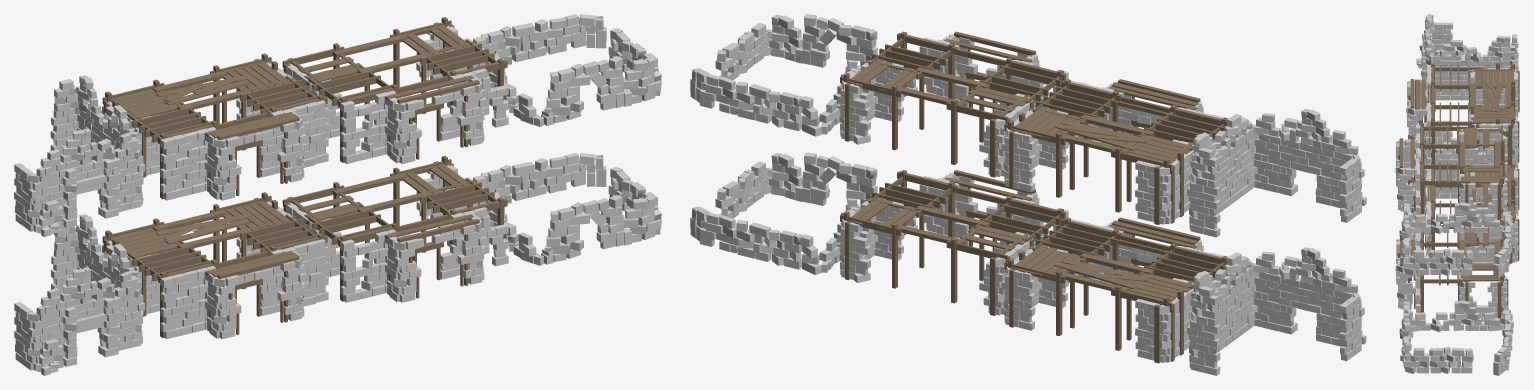
The model's file is Ruined_Structures_A.fbx.
3 views of the same model, side by side, from view 1: azimuth 30°, elevation 25°; view 2: azimuth 150°, elevation 25°; view 3: azimuth 270°, elevation 25° (orthographic). The views are drawn at different scales.
Visible parts, largest first — view 1: Ruined_Structure_1A3, Ruined_Structure_1A3.001, Ruined_Structure_1A4, Ruined_Structure_1A4.001, Ruined_Structure_1A1, Ruined_Structure_1A1.001, Ruined_Structure_1A2, Ruined_Structure_1A2.001; view 2: Ruined_Structure_1A3, Ruined_Structure_1A3.001, Ruined_Structure_1A4, Ruined_Structure_1A4.001, Ruined_Structure_1A1, Ruined_Structure_1A1.001, Ruined_Structure_1A2, Ruined_Structure_1A2.001; view 3: Ruined_Structure_1A4, Ruined_Structure_1A3, Ruined_Structure_1A2, Ruined_Structure_1A2.001, Ruined_Structure_1A4.001, Ruined_Structure_1A1, Ruined_Structure_1A3.001, Ruined_Structure_1A1.001.
Part boxes in pixels (x1=…): Ruined_Structure_1A3: x1=101, y1=53, x2=328, y2=200; Ruined_Structure_1A3.001: x1=101, y1=192, x2=328, y2=339; Ruined_Structure_1A4: x1=282, y1=17, x2=508, y2=163; Ruined_Structure_1A4.001: x1=282, y1=156, x2=508, y2=302; Ruined_Structure_1A1: x1=14, y1=75, x2=145, y2=236; Ruined_Structure_1A1.001: x1=14, y1=214, x2=144, y2=375; Ruined_Structure_1A2: x1=473, y1=14, x2=661, y2=126; Ruined_Structure_1A2.001: x1=473, y1=153, x2=661, y2=265; Ruined_Structure_1A3: x1=1001, y1=79, x2=1229, y2=224; Ruined_Structure_1A3.001: x1=1001, y1=217, x2=1229, y2=363; Ruined_Structure_1A4: x1=837, y1=31, x2=1068, y2=177; Ruined_Structure_1A4.001: x1=837, y1=170, x2=1068, y2=315; Ruined_Structure_1A1: x1=1187, y1=108, x2=1366, y2=237; Ruined_Structure_1A1.001: x1=1187, y1=247, x2=1366, y2=375; Ruined_Structure_1A2: x1=690, y1=14, x2=877, y2=136; Ruined_Structure_1A2.001: x1=690, y1=152, x2=877, y2=274; Ruined_Structure_1A4: x1=1395, y1=123, x2=1510, y2=224; Ruined_Structure_1A3: x1=1406, y1=63, x2=1519, y2=165; Ruined_Structure_1A2: x1=1399, y1=202, x2=1513, y2=277; Ruined_Structure_1A2.001: x1=1399, y1=300, x2=1513, y2=375; Ruined_Structure_1A4.001: x1=1395, y1=223, x2=1510, y2=322; Ruined_Structure_1A1: x1=1416, y1=14, x2=1518, y2=100; Ruined_Structure_1A3.001: x1=1411, y1=163, x2=1519, y2=263; Ruined_Structure_1A1.001: x1=1424, y1=116, x2=1518, y2=198.
Size of the model in its own units: 4719 by 1652 by 1145.
